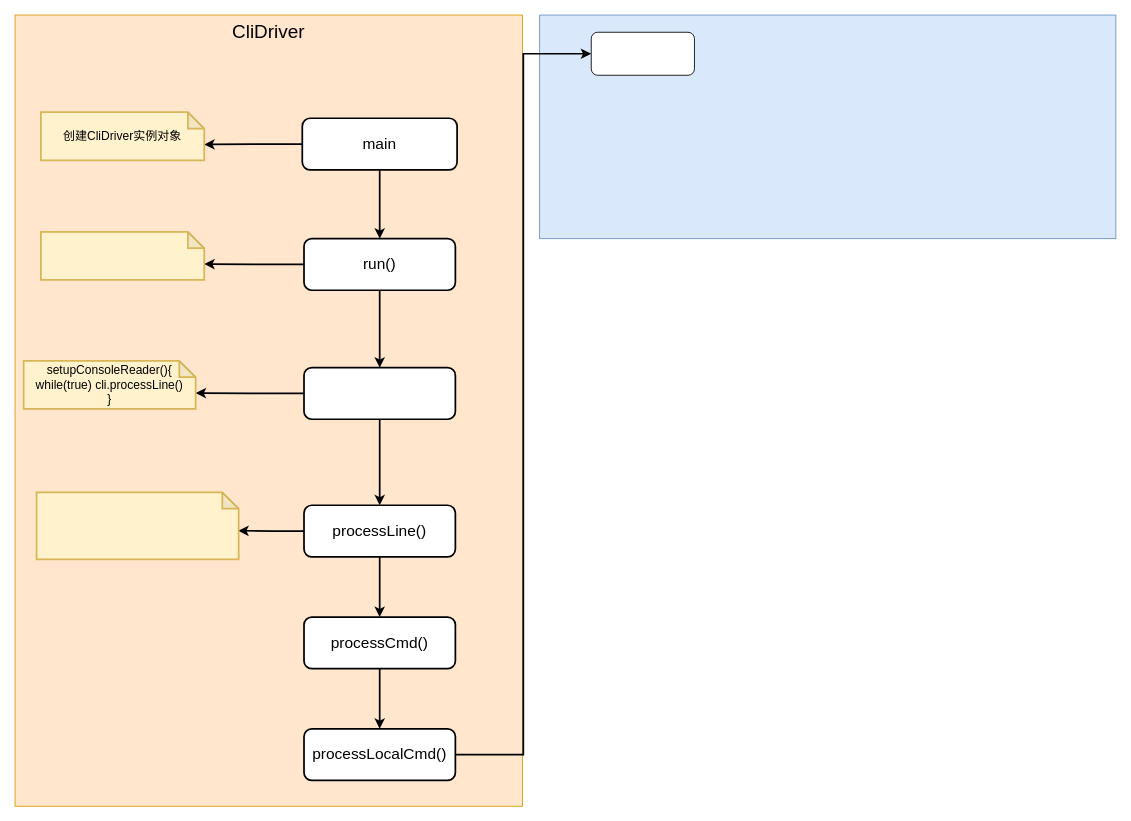
This 1131x821 diagram has some shape labels left out. Here are the shapes that lost their labels. From the top down, the box of each, then its label:
(590, 31, 694, 75): run(cmd)
(40, 230, 205, 280): 解析 -i -f -S -H -hivevar
(303, 366, 456, 420): executorDriver()
(35, 491, 239, 560): 参数 line 就是一系列 ；分割的HQL 第一步：先处理 ctrl + C 第二步：逐个独立的 HQL 的处理
